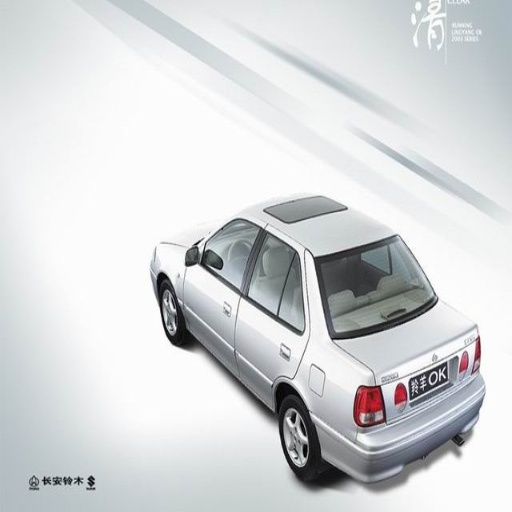back_bumper: (322, 385, 483, 479)
back_glass: (334, 275, 398, 337)
back_left_door: (226, 219, 306, 399)
back_right_door: (316, 240, 392, 317)
trunk: (350, 306, 473, 425)
